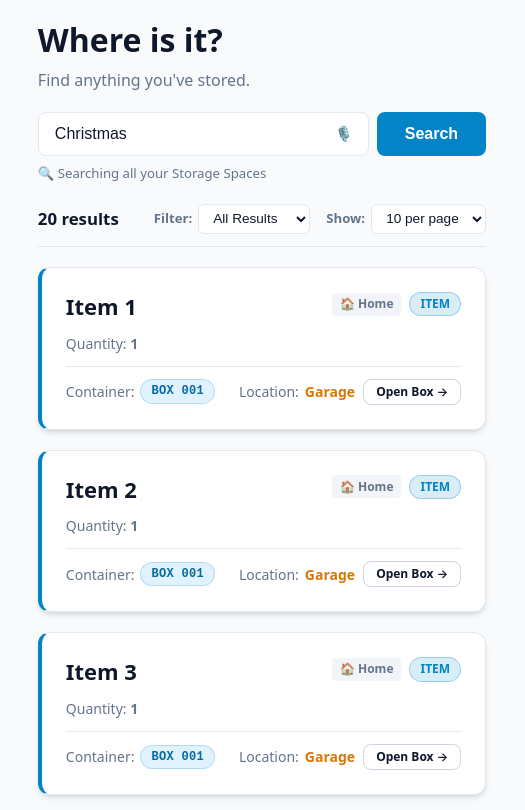
Test: WorkspaceSearch Usability Suite › filters results by resultType and updates result count & pagination
Select "Boxes Only" in the dropdown named "filter results by type" at (254, 219), box [198,204,310,234]
(page scrolled)
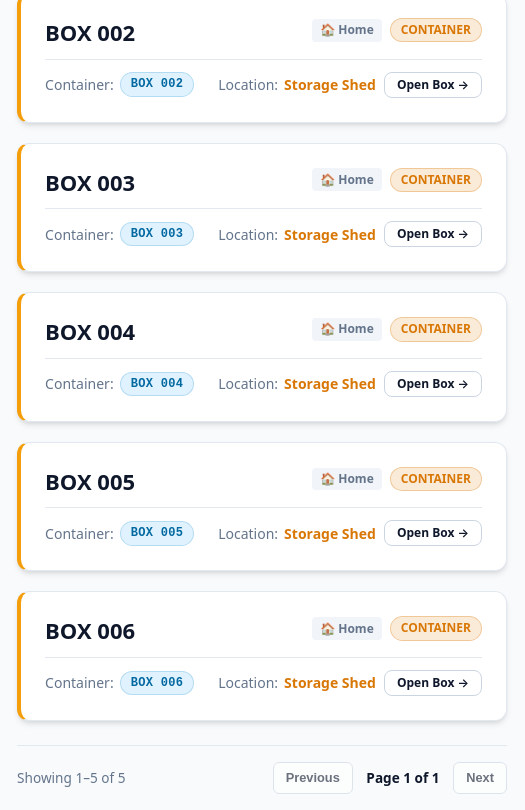
Now the text "Showing 1–5 of 5" is shown, box [17,768,126,788]
Now the text "Page 1 of 1" is shown, box [361,768,445,788]
